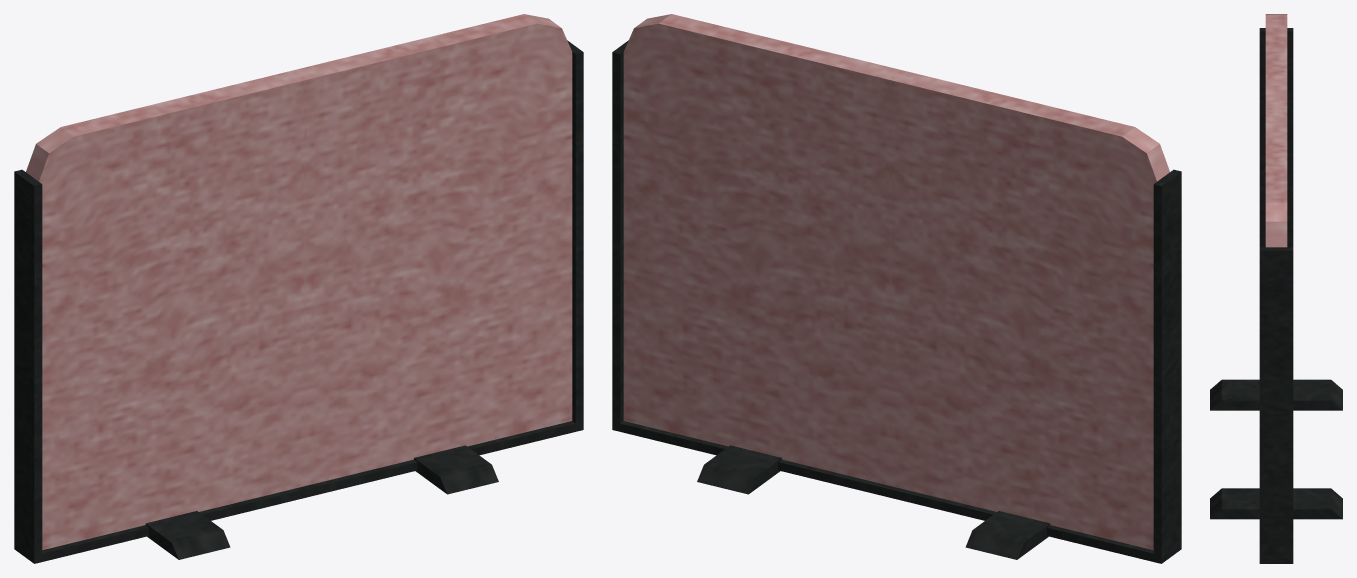
File: divider_black_red_low_half.obj
3 renders of one model, left to right at view 1: azimuth 30°, elevation 25°; view 2: azimuth 150°, elevation 25°; view 3: azimuth 270°, elevation 25°, orthographic. The views are drawn at different scales.
Parts seen in each view (by area): view 1: divider_black_red_low_half; view 2: divider_black_red_low_half; view 3: divider_black_red_low_half.
Part boxes in pixels (bbox=[...]): divider_black_red_low_half: bbox=[14, 14, 583, 563]; divider_black_red_low_half: bbox=[612, 14, 1181, 563]; divider_black_red_low_half: bbox=[1210, 14, 1342, 563].
Bounding box in the file's own units: 2.07 × 1.5 × 0.523.
